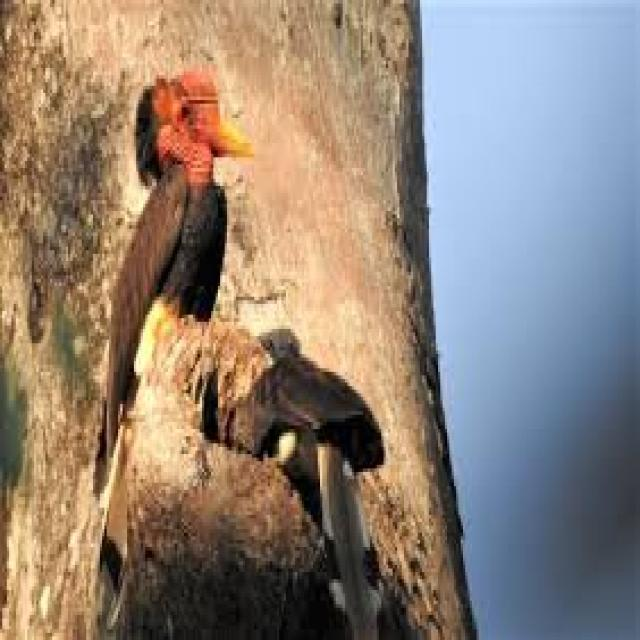Hornbill: (96, 48, 248, 496)
